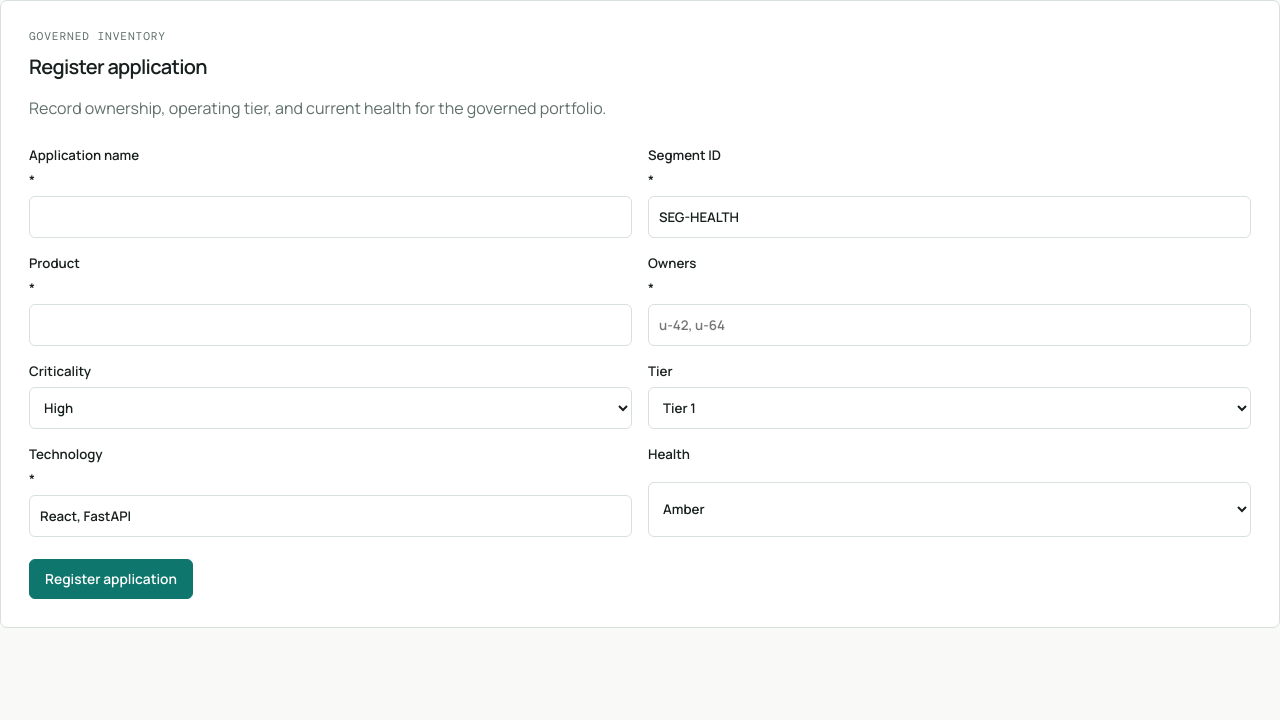
ApplicationForm › shows validation and makes no request for incomplete input
What coordinates should you click on to do the following:
click the button "Register application"
I would click on:
 (111, 579)
Its box is [29,559,193,599].
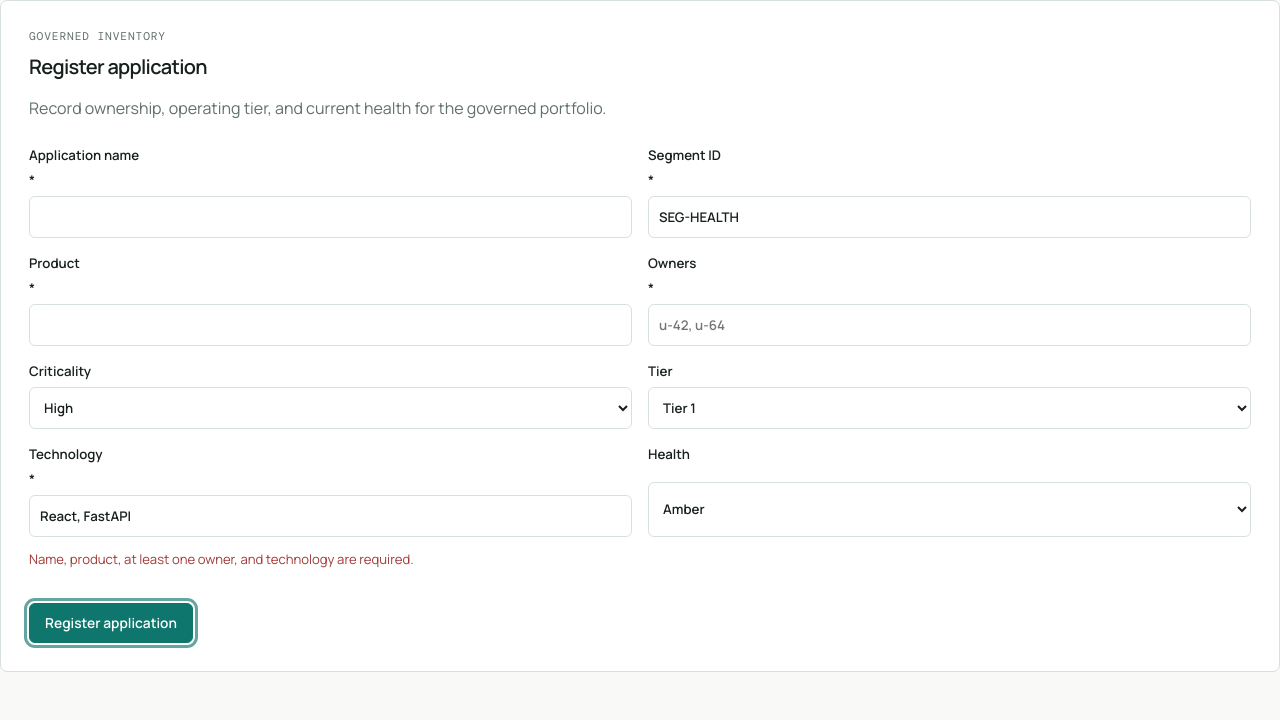
Expected: the message shows "Name, product, at least one owner", [29,550,414,568]
